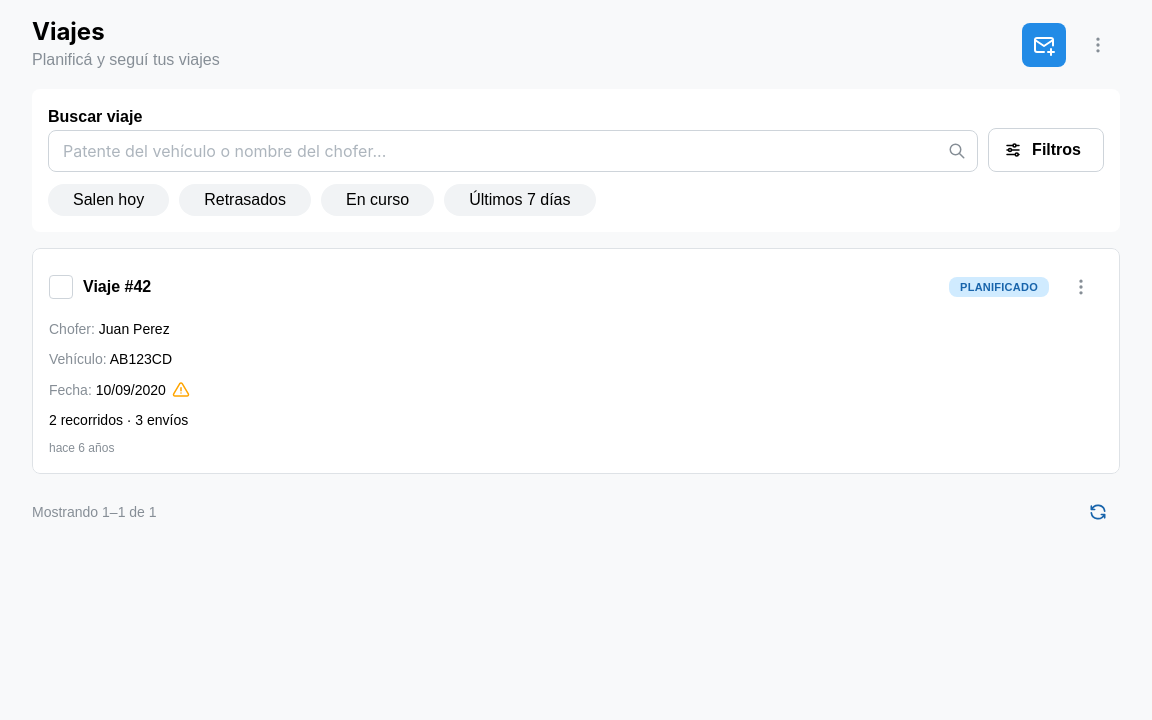
ListaViajes en mobile › los filtros viven en una hoja y los chips quedan afuera
Expected: the text "Viaje #42" is shown, [83,278,151,295]
Expected: the element with test id "quick-filters" is shown, [48,184,596,216]
Click the button "Filtros" at [1046, 150], box [988,128,1104,172]
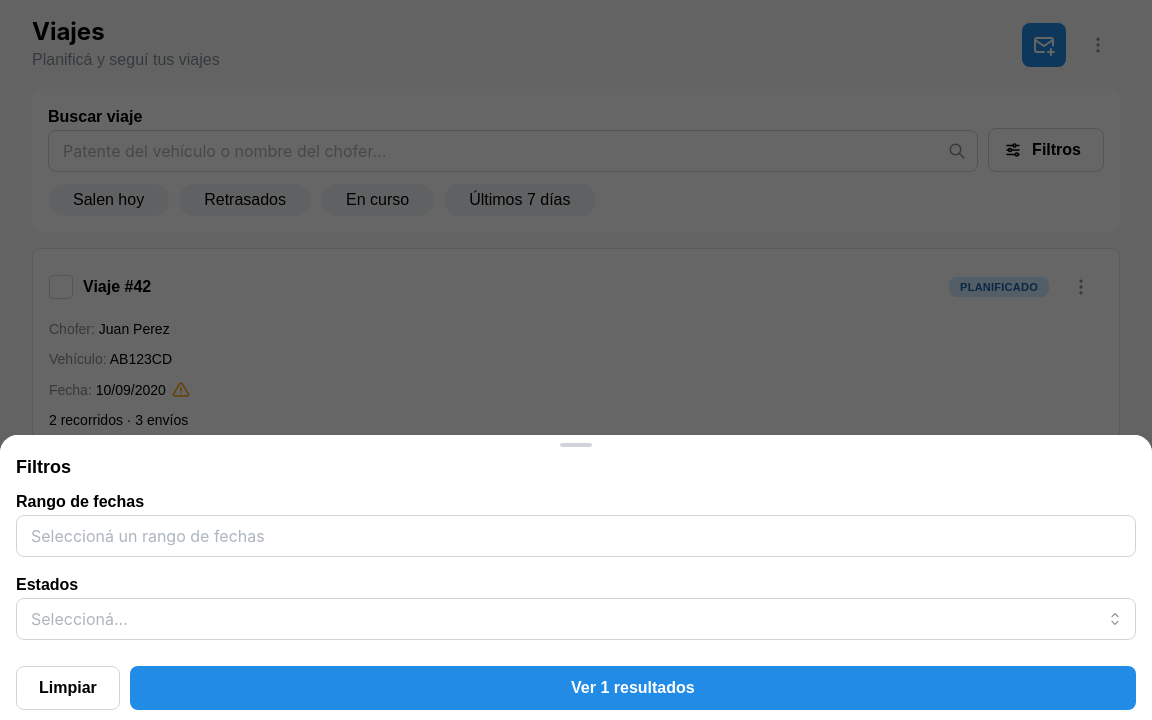
Expected: the text "Rango de fechas" is shown, [16,490,144,515]
Expected: the text "Estados" is shown, [16,573,78,598]
